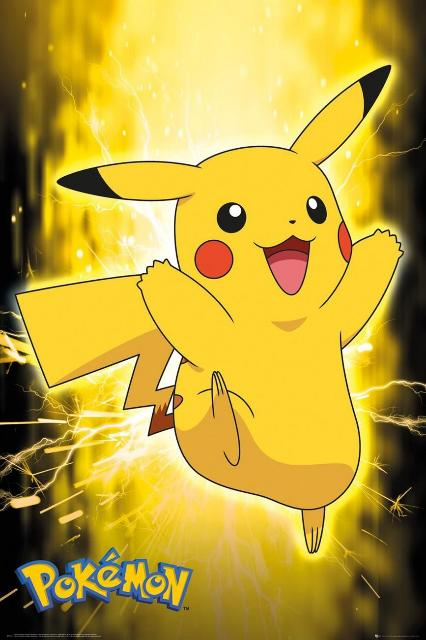pickachu: (19, 65, 405, 553)
